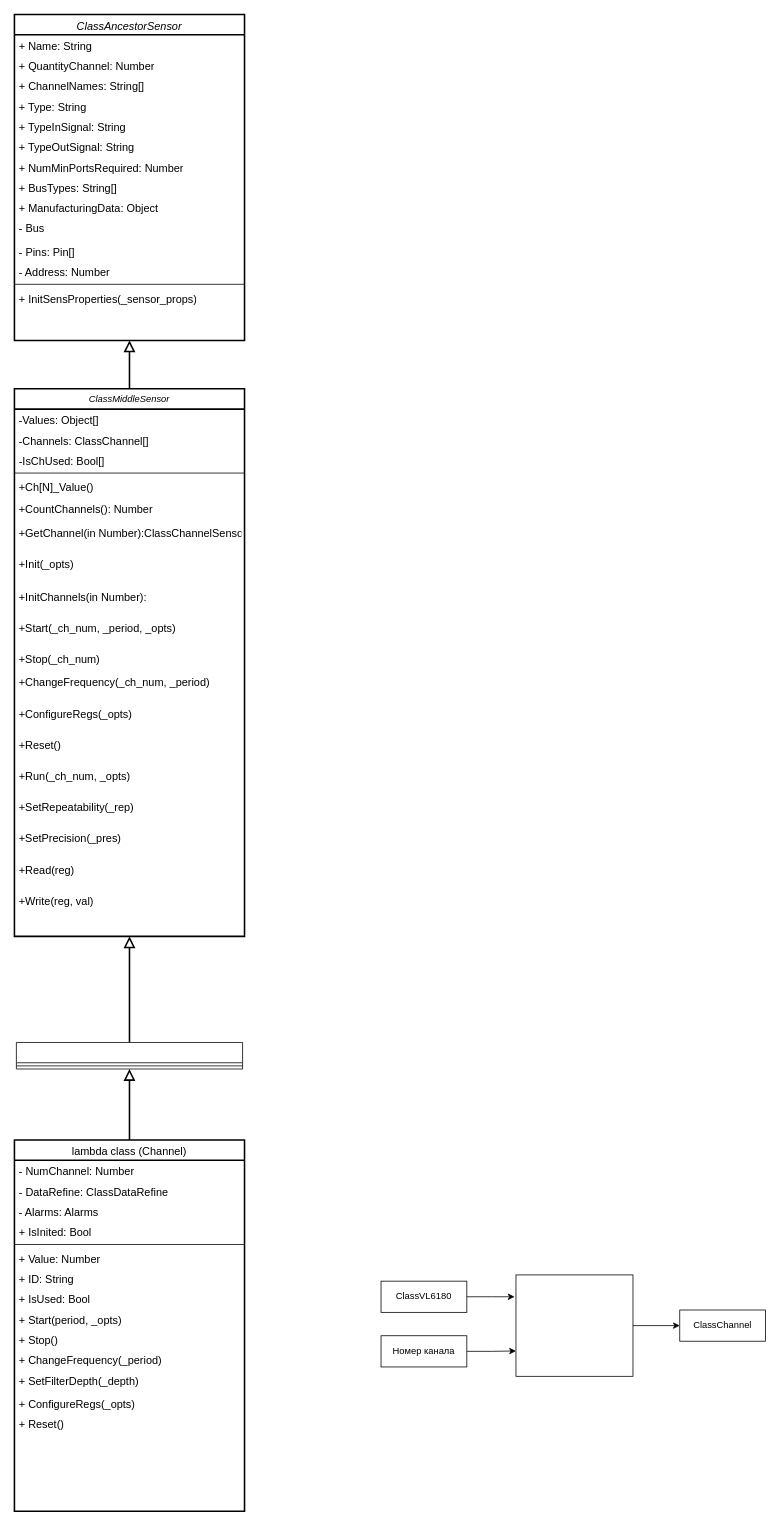
The diagram is 779 pixels wide and 1525 high, and some of its shapes have lost their labels. The shapes that lost their labels are listed below. From the top down, each one's centre as x and y in pixels, then its label:
At point (129, 1055): "ClassCertainSensor".
At point (574, 1325): "CreateChannel".
